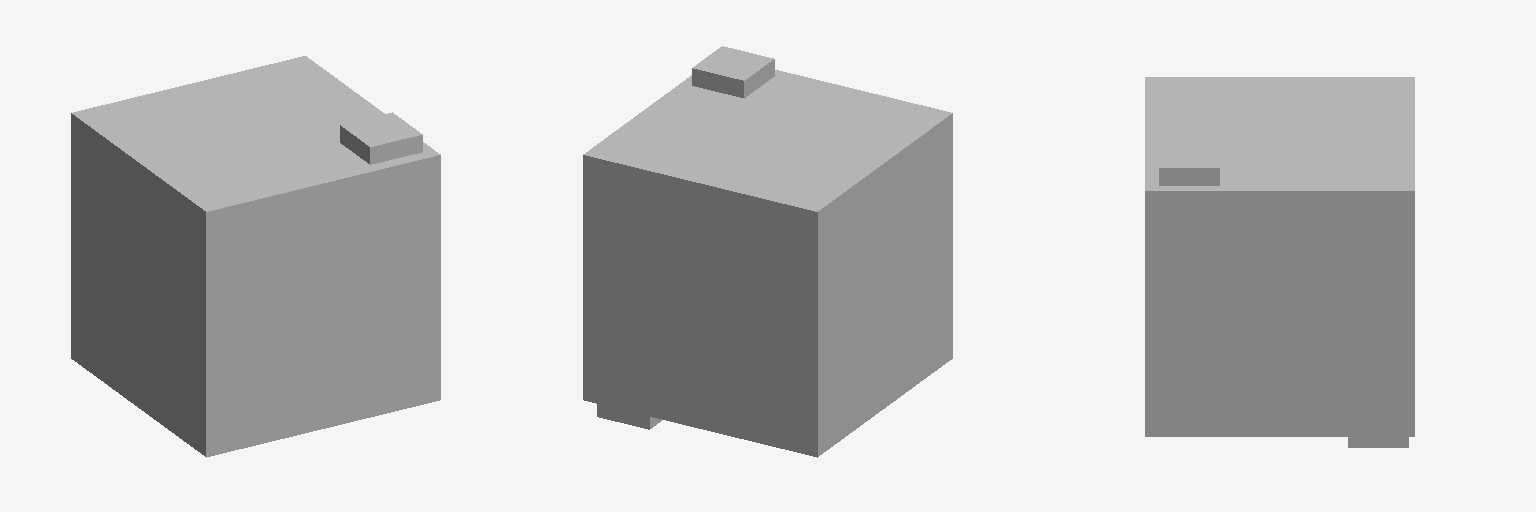
3 views of the same model, side by side, from view 1: azimuth 30°, elevation 25°; view 2: azimuth 150°, elevation 25°; view 3: azimuth 270°, elevation 25° (orthographic).
Visible parts, largest first — view 1: BigCube, Cube1; view 2: BigCube, Cube1, Cube4; view 3: BigCube, Cube1, Cube4.
Boxes of the visible parts, box(x1,y1,x2,y2) form: BigCube: box(71, 56, 440, 457); Cube1: box(340, 112, 422, 164); BigCube: box(583, 70, 952, 457); Cube1: box(692, 46, 774, 98); Cube4: box(597, 404, 661, 429); BigCube: box(1145, 77, 1414, 436); Cube1: box(1159, 142, 1219, 185); Cube4: box(1348, 437, 1408, 447).
Bounding box in the file's own units: 1 × 1.14 × 1.